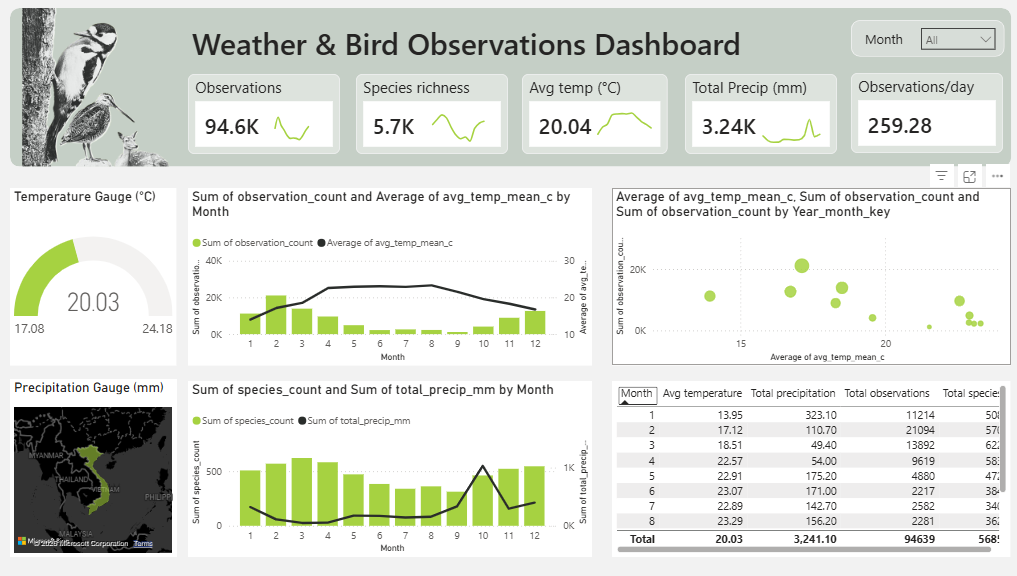

This screenshot's page, from the dashboard's own definition file:
{"tool":"powerbi","page":{"name":"Dashboard","canvas":[1280,720],"ordinal":0},"visuals":[{"type":"shape","box":[15,10,1251.7,198.3],"z":0},{"type":"shape","box":[1066.7,25.4,192.1,46],"z":0,"group":"g1"},{"type":"cardVisual","title":"Observations","fields":{"Data":["Sum(marts mart_species_richness_by_month.observation_count)"]},"box":[237.9,97.7,190.4,91.7],"z":0,"group":"g5"},{"type":"cardVisual","title":"Species richness","fields":{"Data":["_Measures.Species Richness"]},"box":[447.5,97.7,190,91.7],"z":0,"group":"g4"},{"type":"cardVisual","title":"Avg temp (°C)","fields":{"Data":["Avg(marts fct_weather_daily.temp_mean_c)"]},"box":[655.1,97.7,182.8,91.7],"z":0,"group":"g3"},{"type":"cardVisual","title":"Total Precip (mm)","fields":{"Data":["Sum(marts fct_weather_daily.precip_mm)"]},"box":[857.7,97.7,190.2,91.7],"z":0,"group":"g2"},{"type":"cardVisual","title":"Observations/day","fields":{"Data":["_Measures.Observations / Day"]},"box":[1066.3,97.7,190.5,90.7],"z":0,"group":"g6"},{"type":"image","box":[6.3,9.5,365.1,198.4],"z":1000},{"type":"slicer","fields":{"Values":["dim_month.Month"]},"box":[1143.8,25.4,113.3,47.9],"z":1000,"group":"g1"},{"type":"lineChart","fields":{"Y":["Sum(marts mart_species_richness_by_month.observation_count)"],"Category":["dim_month.Month"]},"box":[333.2,122.3,96.2,52.7],"z":1000,"group":"g5"},{"type":"lineChart","fields":{"Y":["Sum(marts mart_species_richness_by_month.species_count)"],"Category":["dim_month.Month"]},"box":[527.1,128.2,107.4,48.2],"z":1000,"group":"g4"},{"type":"lineChart","fields":{"Y":["Sum(marts mart_weather_by_month.avg_temp_mean_c)"],"Category":["dim_month.Month"]},"box":[735.8,130.6,109.8,46.9],"z":1000,"group":"g3"},{"type":"lineChart","fields":{"Y":["Sum(marts mart_weather_by_month.total_precip_mm)"],"Category":["dim_month.Month"]},"box":[945.6,130.6,109.6,47.8],"z":1000,"group":"g2"},{"type":"textbox","box":[238.1,23.8,765.1,68.3],"z":2000},{"type":"textbox","box":[1078.9,32.9,75.3,31.2],"z":2000,"group":"g1"},{"type":"lineClusteredColumnComboChart","title":"Monthly Trend: Observations vs Avg temp (°C)","fields":{"Y2":["Avg(marts mart_weather_by_month.avg_temp_mean_c)"],"Y":["Sum(marts mart_species_richness_by_month.observation_count)"],"Category":["dim_month.Month"]},"box":[238.1,234.6,505,221.7],"z":3000},{"type":"scatterChart","title":"Monthly Observations Distribution by Temperature ","fields":{"X":["Avg(marts mart_weather_by_month.avg_temp_mean_c)"],"Y":["Sum(marts mart_species_richness_by_month.observation_count)"],"Category":["dim_month.Year_month_key"],"Size":["Sum(marts mart_species_richness_by_month.observation_count)"]},"box":[761.2,235,505,221.2],"z":4000},{"type":"lineClusteredColumnComboChart","title":"Monthly Trend: Species Richness vs Total Precipitation","fields":{"Category":["dim_month.Month"],"Y2":["Sum(marts mart_weather_by_month.total_precip_mm)"],"Y":["Sum(marts mart_species_richness_by_month.species_count)"]},"box":[238.1,475.7,505,220],"z":5000},{"type":"tableEx","fields":{"Values":["dim_month.Month","Avg(marts mart_weather_by_month.avg_temp_mean_c)","Sum(marts mart_weather_by_month.total_precip_mm)","Sum(marts mart_species_richness_by_month.observation_count)","Sum(marts mart_species_richness_by_month.species_count)"]},"box":[761.2,476.2,505,220],"z":6000},{"type":"group","id":"g1","title":"Group 1","box":[1066.7,25.4,192.1,47.6],"z":7000},{"type":"group","id":"g2","title":"Group 2","box":[857.7,97.7,197.5,91.7],"z":8000},{"type":"group","id":"g3","title":"Group 3","box":[655.1,97.7,190.5,91.7],"z":9000},{"type":"group","id":"g4","title":"Group 4","box":[447.5,97.7,190.5,91.7],"z":10000},{"type":"group","id":"g5","title":"Group 5","box":[237.9,97.7,191.5,91.7],"z":11000},{"type":"gauge","title":"Temperature Gauge (°C)","fields":{"Y":["Avg(marts mart_weather_by_month.avg_temp_mean_c)"],"MinValue":["Avg(marts mart_weather_by_month.avg_temp_min_c)1"],"MaxValue":["Avg(marts mart_weather_by_month.avg_temp_max_c)"]},"box":[14.8,234.6,208.3,221.7],"z":12000},{"type":"filledMap","title":"Precipitation Map","fields":{"Category":["marts dim_location_weather.country_code"],"X":["Sum(marts dim_location_weather.longitude)"],"Y":["Sum(marts dim_location_weather.latitude)"]},"box":[14.8,474.1,208.3,221.7],"z":13000},{"type":"group","id":"g6","title":"Group 2","box":[1066.3,97.7,190.5,90.7],"z":14000},{"type":"textbox","box":[957.1,692.9,310,27.1],"z":15000}]}

Visuals, with their boxes in screenshot pixels (x1, y1, x2, y2), scaled from the page's 1280x720 canvas onto the 1017x576 screenshot:
shape: <region>12, 8, 1006, 167</region>
shape: <region>848, 20, 1000, 57</region>
"Observations" cardVisual: <region>189, 78, 340, 152</region>
"Species richness" cardVisual: <region>356, 78, 507, 152</region>
"Avg temp (°C)" cardVisual: <region>520, 78, 666, 152</region>
"Total Precip (mm)" cardVisual: <region>681, 78, 833, 152</region>
"Observations/day" cardVisual: <region>847, 78, 999, 151</region>
image: <region>5, 8, 295, 166</region>
slicer - dim_month.Month: <region>909, 20, 999, 59</region>
lineChart - Sum(marts mart_species_richness_by_month.observation_count) x dim_month.Month: <region>265, 98, 341, 140</region>
lineChart - Sum(marts mart_species_richness_by_month.species_count) x dim_month.Month: <region>419, 103, 504, 141</region>
lineChart - Sum(marts mart_weather_by_month.avg_temp_mean_c) x dim_month.Month: <region>585, 104, 672, 142</region>
lineChart - Sum(marts mart_weather_by_month.total_precip_mm) x dim_month.Month: <region>751, 104, 838, 143</region>
textbox: <region>189, 19, 797, 74</region>
textbox: <region>857, 26, 917, 51</region>
"Monthly Trend: Observations vs Avg temp (°C)" lineClusteredColumnComboChart: <region>189, 188, 590, 365</region>
"Monthly Observations Distribution by Temperature " scatterChart: <region>605, 188, 1006, 365</region>
"Monthly Trend: Species Richness vs Total Precipitation" lineClusteredColumnComboChart: <region>189, 381, 590, 557</region>
tableEx - dim_month.Month x Avg(marts mart_weather_by_month.avg_temp_mean_c): <region>605, 381, 1006, 557</region>
"Group 1" group: <region>848, 20, 1000, 58</region>
"Group 2" group: <region>681, 78, 838, 152</region>
"Group 3" group: <region>520, 78, 672, 152</region>
"Group 4" group: <region>356, 78, 507, 152</region>
"Group 5" group: <region>189, 78, 341, 152</region>
"Temperature Gauge (°C)" gauge: <region>12, 188, 177, 365</region>
"Precipitation Map" filledMap: <region>12, 379, 177, 557</region>
"Group 2" group: <region>847, 78, 999, 151</region>
textbox: <region>760, 554, 1007, 575</region>
